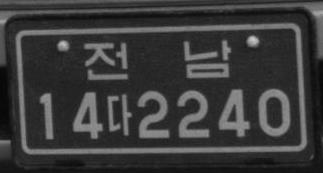0: (256, 87, 291, 138)
1: (34, 91, 61, 140)
2: (176, 88, 211, 140), (135, 89, 171, 139)
4: (216, 87, 251, 138), (71, 90, 103, 140)
다: (106, 93, 132, 136)
전남_D: (82, 37, 232, 81)
